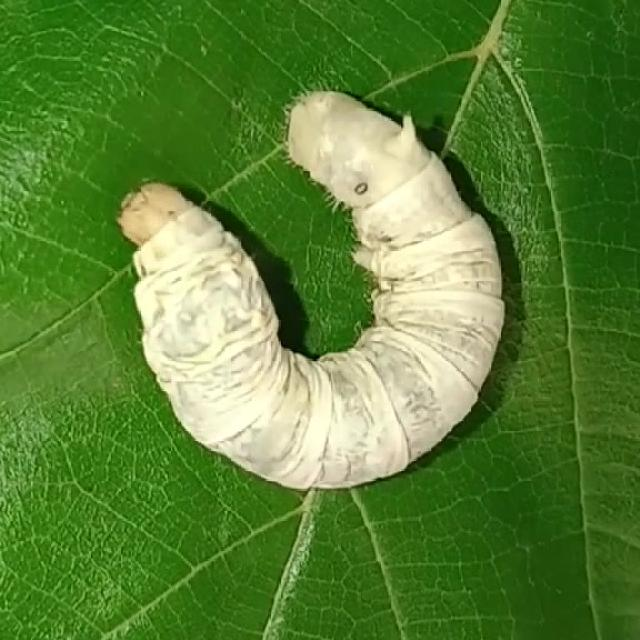Grasserie: (101, 57, 530, 520)
